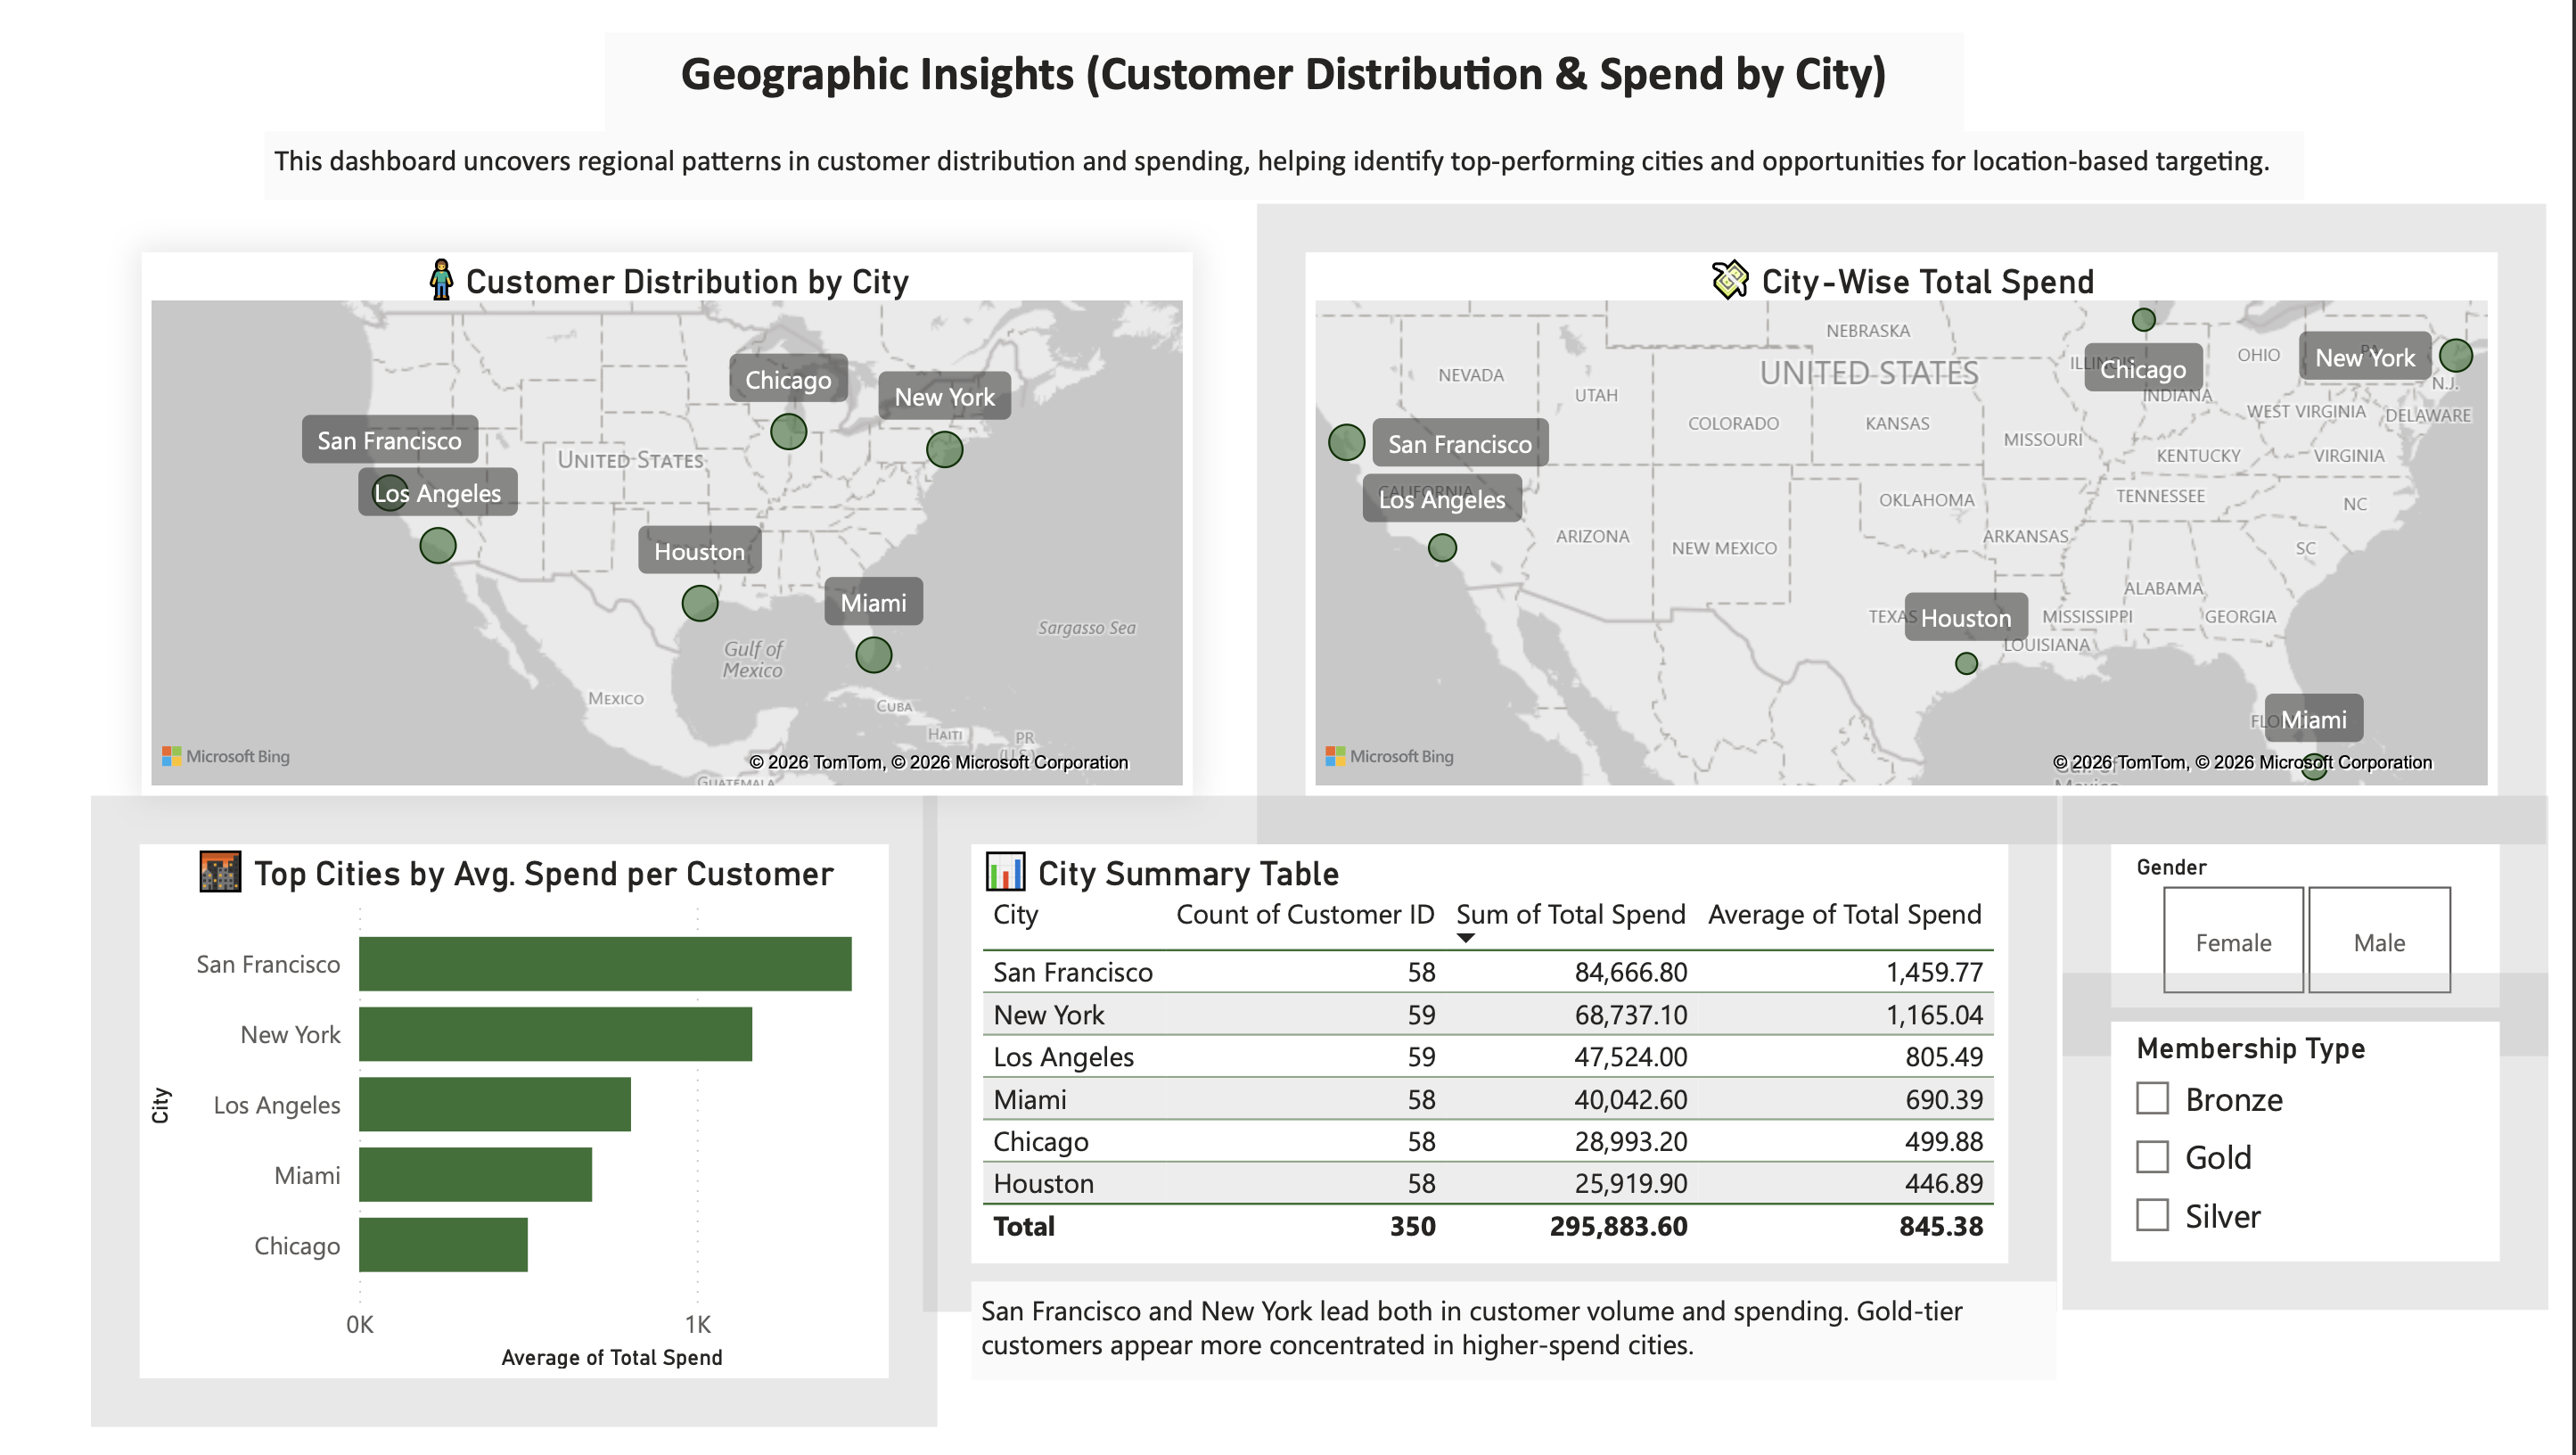

Layout of this report page (visuals, bound fields, positions):
{"tool":"powerbi","page":{"name":"Page 5","canvas":[1280,720],"ordinal":4},"visuals":[{"type":"textbox","box":[302.9,14.9,675.3,48.7],"z":0},{"type":"textbox","box":[134.1,63.6,1012.9,33.8],"z":1000},{"type":"map","title":"🧍 Customer Distribution by City","fields":{"Category":["E-commerce Customer Behavior - Sheet1.City"],"Size":["CountNonNull(E-commerce Customer Behavior - Sheet1.Customer ID)"]},"box":[73.5,124.1,522.3,270.1],"z":2000},{"type":"map","title":"💸 City-Wise Total Spend","fields":{"Category":["E-commerce Customer Behavior - Sheet1.City"],"Size":["Sum(E-commerce Customer Behavior - Sheet1.Total Spend)"]},"box":[651.4,124.1,591.8,270.1],"z":3000},{"type":"barChart","title":"🌆 Top Cities by Avg. Spend per Customer","fields":{"Category":["E-commerce Customer Behavior - Sheet1.City"],"Y":["Avg(E-commerce Customer Behavior - Sheet1.Total Spend)"]},"box":[72.5,418.1,372.4,265.1],"z":4000},{"type":"tableEx","title":"📊 City Summary Table","fields":{"Values":["E-commerce Customer Behavior - Sheet1.City","CountNonNull(E-commerce Customer Behavior - Sheet1.Customer ID)","Sum(E-commerce Customer Behavior - Sheet1.Total Spend)","Avg(E-commerce Customer Behavior - Sheet1.Total Spend)"]},"box":[484.6,418.1,515.4,207.5],"z":5000},{"type":"slicer","fields":{"Values":["E-commerce Customer Behavior - Sheet1.Gender"]},"box":[1050.6,418.1,192.6,81.4],"z":6000},{"type":"slicer","fields":{"Values":["E-commerce Customer Behavior - Sheet1.Membership Type"]},"box":[1050.6,506.4,192.6,119.2],"z":7000},{"type":"textbox","box":[484.6,634.5,539.2,48.7],"z":8000}]}

Visuals, with their boxes in screenshot pixels (x1, y1, x2, y2), scaled from the page's 1280x720 canvas onto the 2576x1455 screenshot:
textbox: detection(610, 30, 1969, 128)
textbox: detection(270, 128, 2309, 197)
"🧍 Customer Distribution by City" map: detection(148, 251, 1199, 797)
"💸 City-Wise Total Spend" map: detection(1311, 251, 2502, 797)
"🌆 Top Cities by Avg. Spend per Customer" barChart: detection(146, 845, 896, 1381)
"📊 City Summary Table" tableEx: detection(975, 845, 2013, 1264)
slicer - E-commerce Customer Behavior - Sheet1.Gender: detection(2114, 845, 2502, 1009)
slicer - E-commerce Customer Behavior - Sheet1.Membership Type: detection(2114, 1023, 2502, 1264)
textbox: detection(975, 1282, 2061, 1381)
